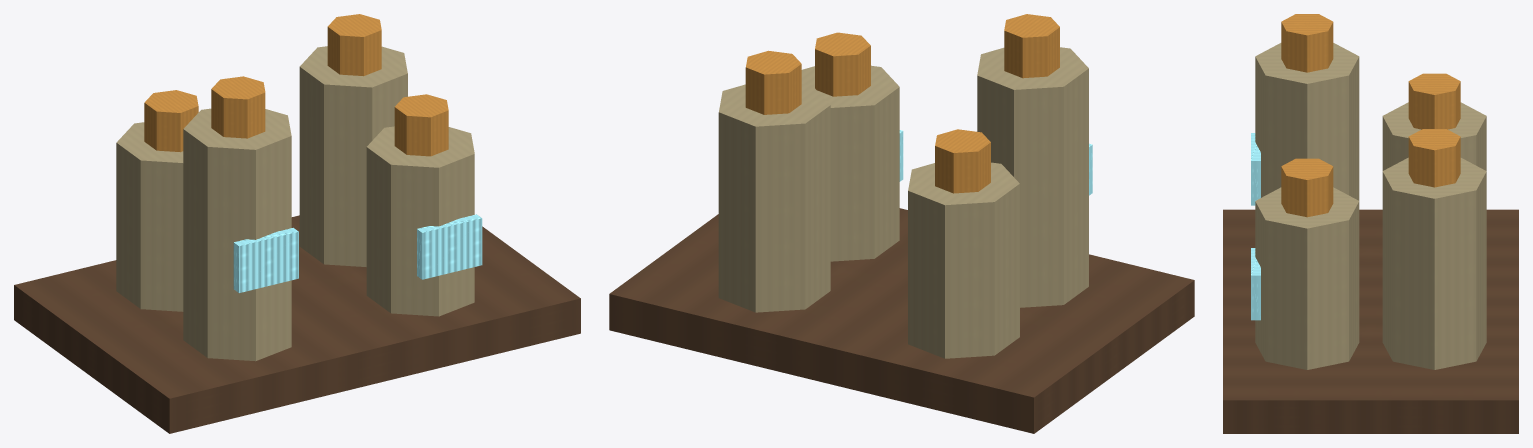
File: atlas100-s011-a04.lod1.glb
The picture shows the model from 3 angles, left to right: view 1: azimuth 30°, elevation 25°; view 2: azimuth 150°, elevation 25°; view 3: azimuth 270°, elevation 25°; orthographic projection. The views are drawn at different scales.
Visible parts, largest first — view 1: atlas100-s011-a04:part-000, atlas100-s011-a04:part-007, atlas100-s011-a04:part-004, atlas100-s011-a04:part-010, atlas100-s011-a04:part-001, atlas100-s011-a04:part-009, atlas100-s011-a04:part-012, atlas100-s011-a04:part-008, atlas100-s011-a04:part-011, atlas100-s011-a04:part-005, atlas100-s011-a04:part-002; view 2: atlas100-s011-a04:part-000, atlas100-s011-a04:part-004, atlas100-s011-a04:part-007, atlas100-s011-a04:part-001, atlas100-s011-a04:part-010, atlas100-s011-a04:part-005, atlas100-s011-a04:part-011, atlas100-s011-a04:part-002, atlas100-s011-a04:part-008; view 3: atlas100-s011-a04:part-000, atlas100-s011-a04:part-004, atlas100-s011-a04:part-010, atlas100-s011-a04:part-007, atlas100-s011-a04:part-001, atlas100-s011-a04:part-011, atlas100-s011-a04:part-008, atlas100-s011-a04:part-005, atlas100-s011-a04:part-002, atlas100-s011-a04:part-012, atlas100-s011-a04:part-009.
Part boxes in pixels (box(x1,y1,x2,y2)): atlas100-s011-a04:part-000: box(14, 215, 580, 433); atlas100-s011-a04:part-007: box(183, 108, 291, 361); atlas100-s011-a04:part-004: box(299, 46, 407, 266); atlas100-s011-a04:part-010: box(366, 126, 474, 316); atlas100-s011-a04:part-001: box(116, 122, 183, 311); atlas100-s011-a04:part-009: box(233, 227, 298, 292); atlas100-s011-a04:part-012: box(417, 214, 482, 279); atlas100-s011-a04:part-008: box(211, 76, 265, 138); atlas100-s011-a04:part-011: box(394, 94, 448, 156); atlas100-s011-a04:part-005: box(327, 14, 381, 76); atlas100-s011-a04:part-002: box(144, 90, 198, 152); atlas100-s011-a04:part-000: box(609, 208, 1194, 433); atlas100-s011-a04:part-004: box(718, 84, 830, 312); atlas100-s011-a04:part-007: box(977, 47, 1088, 307); atlas100-s011-a04:part-001: box(908, 162, 1019, 358); atlas100-s011-a04:part-010: box(801, 65, 899, 261); atlas100-s011-a04:part-005: box(745, 50, 801, 114); atlas100-s011-a04:part-011: box(815, 32, 870, 96); atlas100-s011-a04:part-002: box(935, 129, 990, 193); atlas100-s011-a04:part-008: box(1004, 14, 1059, 78); atlas100-s011-a04:part-000: box(1223, 209, 1518, 433); atlas100-s011-a04:part-004: box(1382, 157, 1486, 369); atlas100-s011-a04:part-010: box(1255, 187, 1359, 369); atlas100-s011-a04:part-007: box(1255, 43, 1359, 200); atlas100-s011-a04:part-001: box(1382, 102, 1486, 170); atlas100-s011-a04:part-011: box(1281, 158, 1333, 217); atlas100-s011-a04:part-008: box(1281, 14, 1333, 72); atlas100-s011-a04:part-005: box(1408, 129, 1460, 187); atlas100-s011-a04:part-002: box(1408, 73, 1460, 129); atlas100-s011-a04:part-012: box(1251, 248, 1260, 320); atlas100-s011-a04:part-009: box(1251, 133, 1260, 205).
Bounding box in the file's own units: 1.18 × 0.7804 × 0.7697.
Materials: 4 (4 with a texture image).
